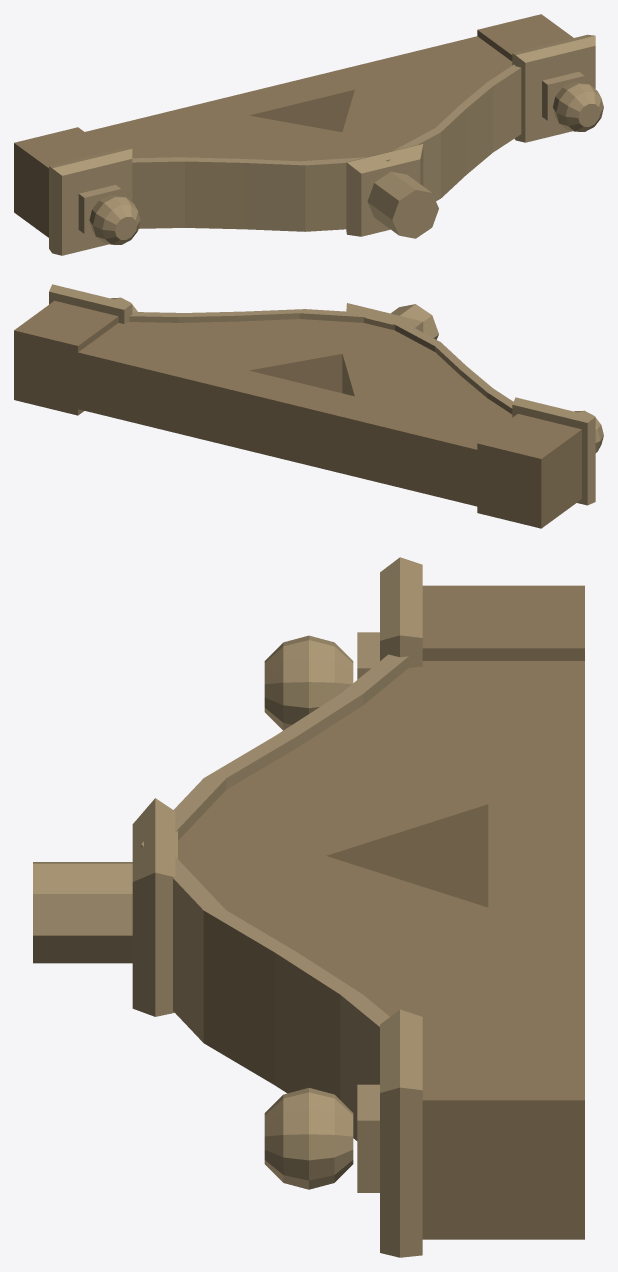
The model's file is T08_Curved_Gable.obj.
The picture shows the model from 3 angles, top to bottom: view 1: azimuth 30°, elevation 25°; view 2: azimuth 150°, elevation 25°; view 3: azimuth 270°, elevation 25°; orthographic projection. The views are drawn at different scales.
Parts seen in each view (by area): view 1: T08_Curved_Gable; view 2: T08_Curved_Gable; view 3: T08_Curved_Gable.
Boxes of the visible parts, <box> form: T08_Curved_Gable: <box>14,14,603,255</box>; T08_Curved_Gable: <box>14,284,603,528</box>; T08_Curved_Gable: <box>33,557,584,1257</box>.
Bounding box in the file's own units: 4.41 × 0.66 × 1.94.
